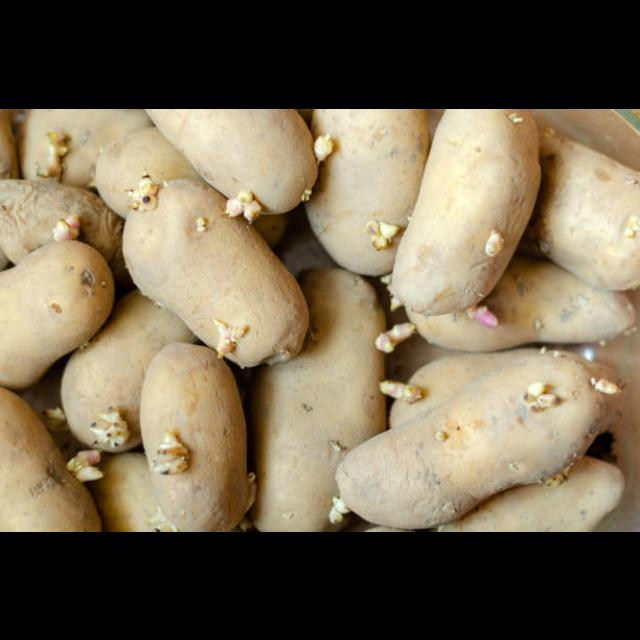Sprouted potato: (324, 357, 620, 531), (116, 158, 314, 374), (378, 108, 544, 330), (282, 108, 442, 282), (127, 336, 265, 532), (0, 221, 114, 409), (142, 108, 338, 216)
